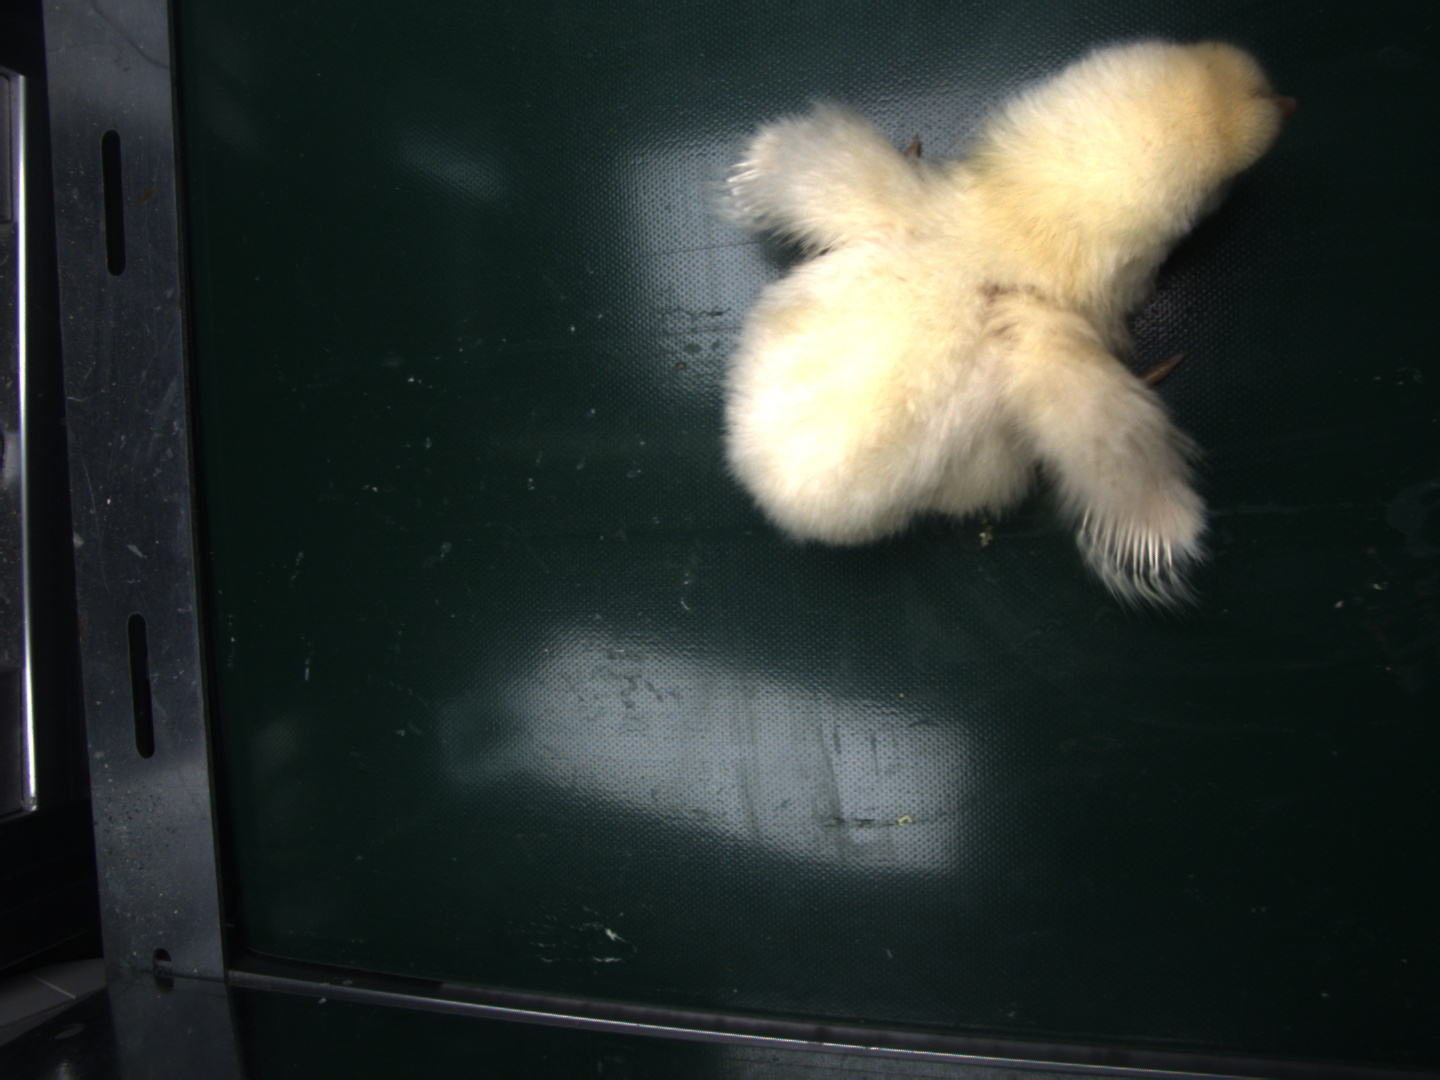male: (1082, 507, 1179, 583)
